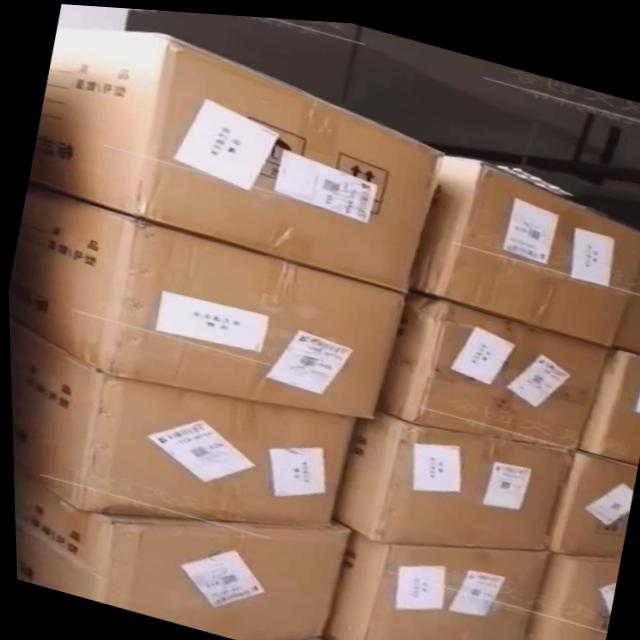box: (28, 25, 441, 285), (7, 183, 407, 411), (8, 323, 363, 519), (11, 465, 348, 640), (380, 287, 604, 444), (333, 407, 570, 545), (324, 531, 543, 640)
